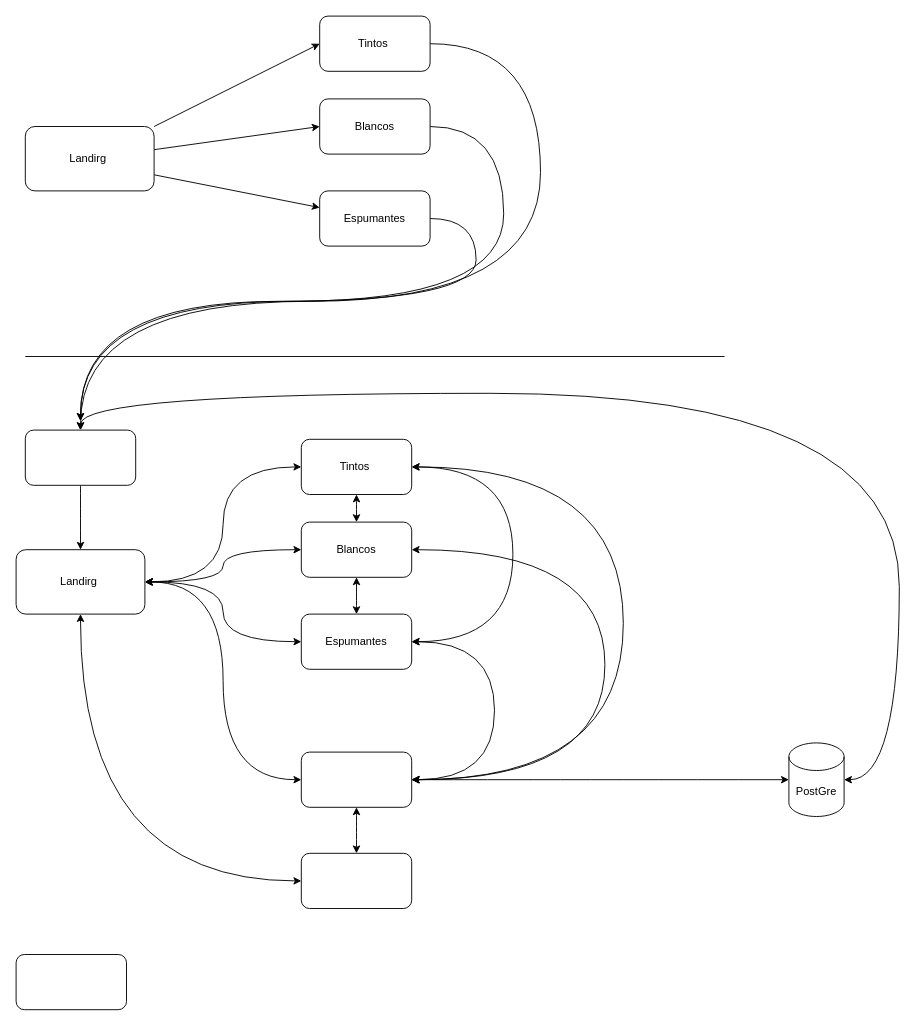
Some shapes in this 915 by 1026 pixel diagram are drawn without their labels. The shapes that lost their labels are listed below. From the top down, each one's centre as x and y in pixels, then its label:
(x=80, y=457): Login/Registración
(x=356, y=779): Formulario
(x=356, y=880): Confirmación
(x=70, y=982): LogOut
